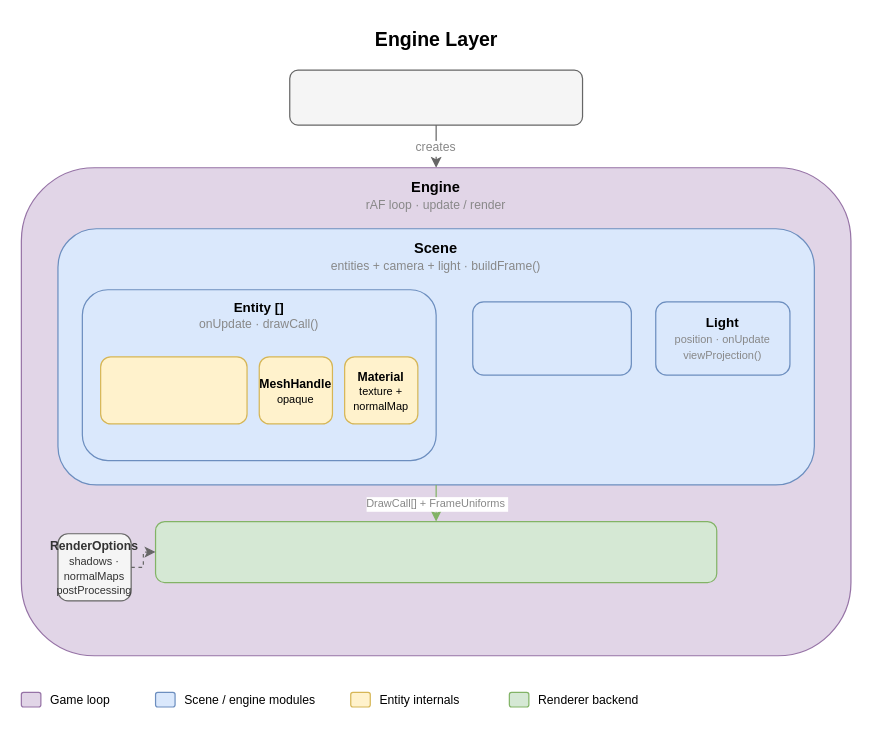
Image size: 872x732. Some labels were removed from this diagram. Each missing label, with the centre of its shape:
main.ts wires everything together: point 436,97
OrbitCamera θ/φ/r · mouse input viewProjection(): point 551,338
Renderer (WebGL2 | WebGPU) createMesh · createTexture · renderFrame: point 435,551
Transform pos · rot(quat) · scale parent chain: point 173,390
